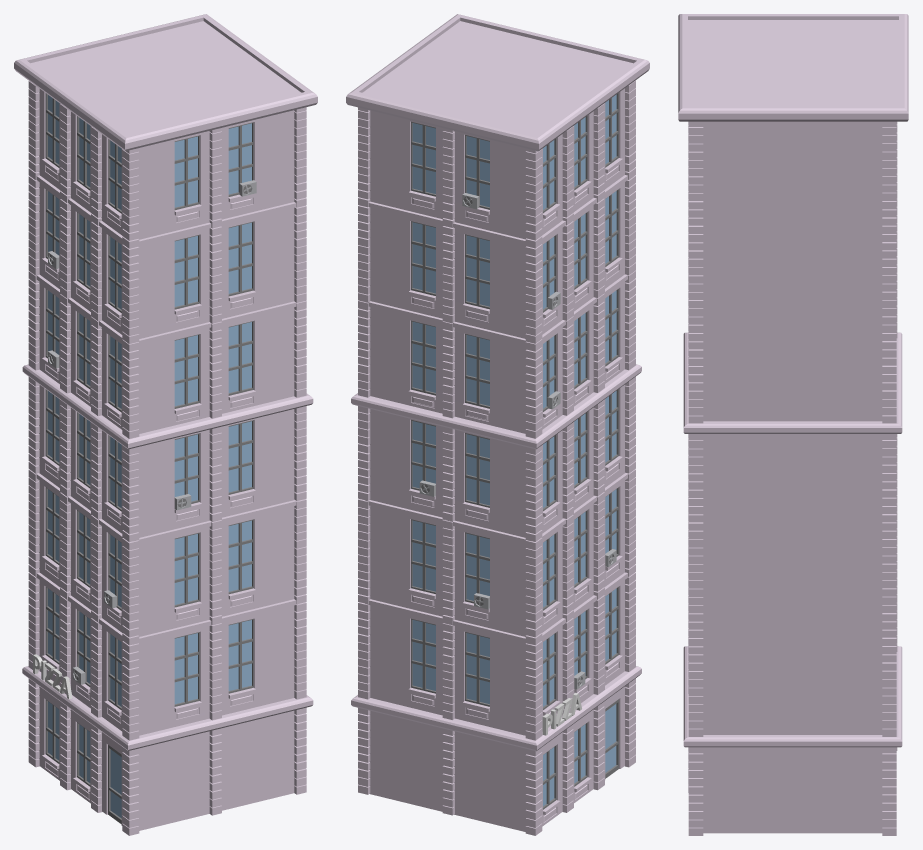
File: cityscene2_17.gltf
3 views of the same model, side by side, from view 1: azimuth 30°, elevation 25°; view 2: azimuth 150°, elevation 25°; view 3: azimuth 270°, elevation 25° (orthographic). The views are drawn at different scales.
Visible parts, largest first — view 1: cityscene2_17; view 2: cityscene2_17; view 3: cityscene2_17.
Part boxes in pixels (left/top/right/bottom): cityscene2_17: left=14, top=14, right=317, bottom=835; cityscene2_17: left=346, top=14, right=649, bottom=835; cityscene2_17: left=678, top=14, right=908, bottom=835.
Bounding box in the file's own units: 4.53 × 15.78 × 4.51.
